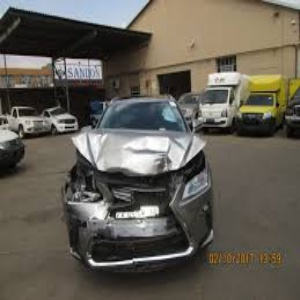bonnet: (72, 127, 205, 173)
head_lights: (62, 176, 109, 210)
